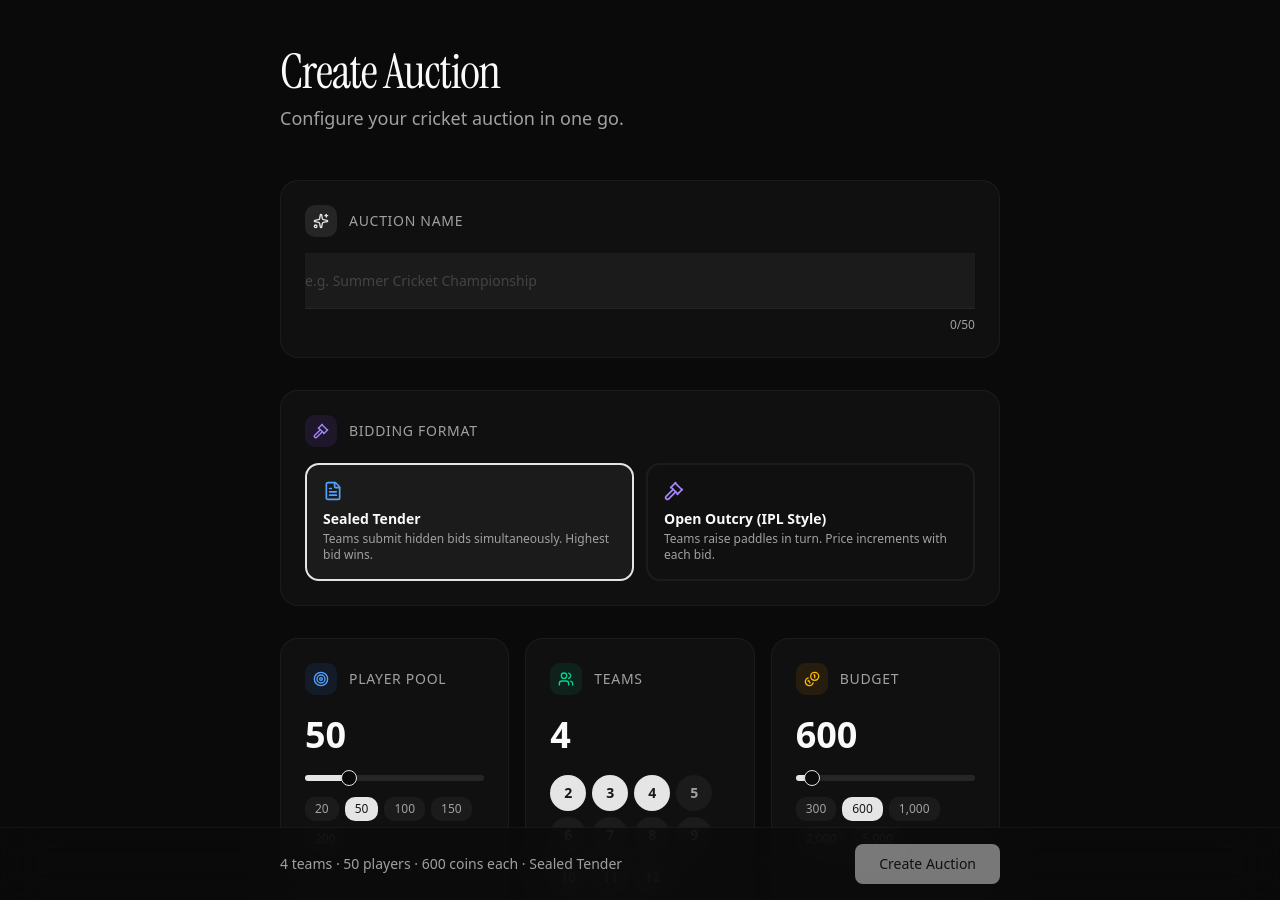
Test: CreateAuctionPage › Auction Creation › should show Creating... while submitting
This screenshot has width=1280, height=900.
Type "Test Auction" into the field with placeholder "e.g. Summer Cricket Championship" at (640, 281), box [305,253,975,309]
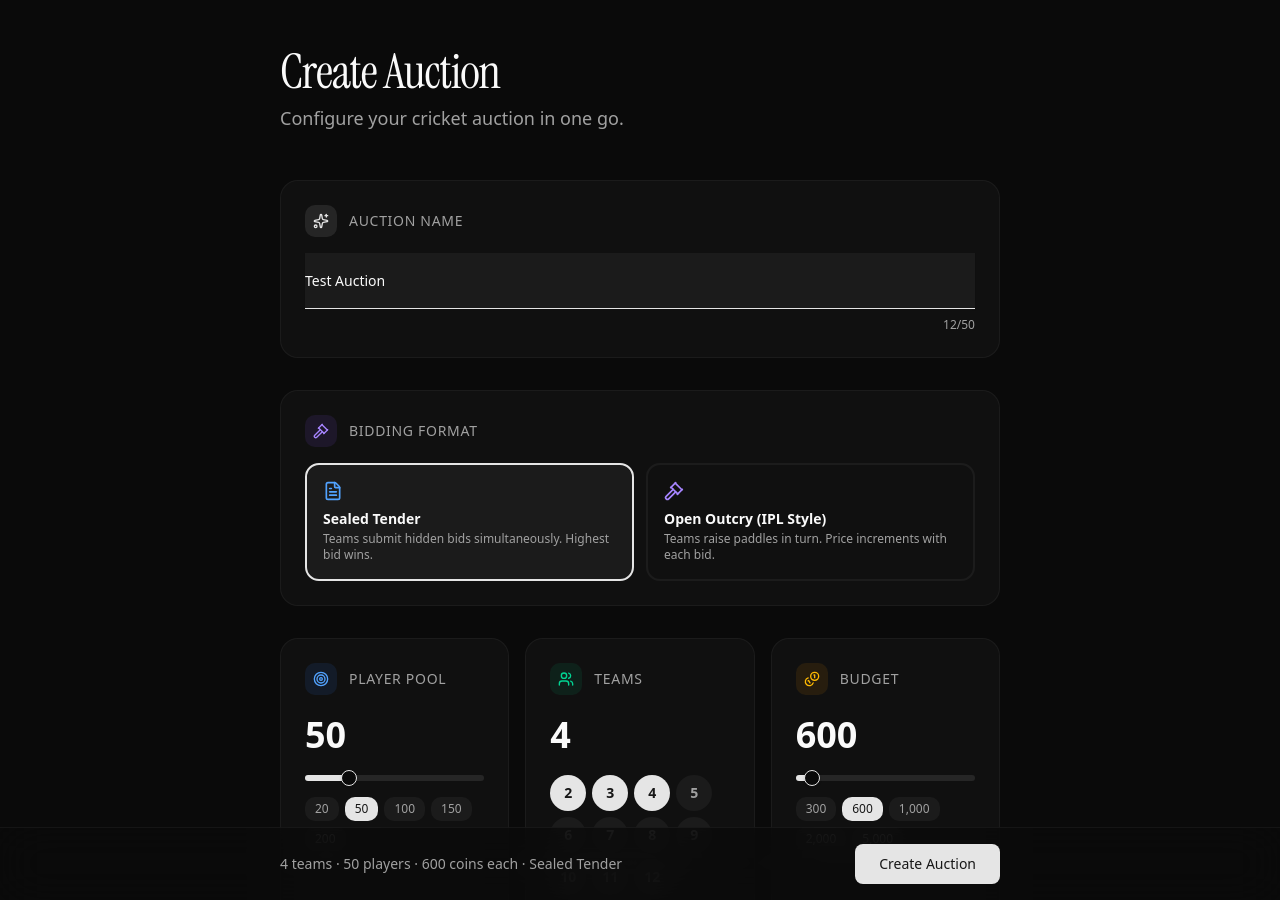
Click the button "Create Auction" at (928, 864), box [855,844,1000,884]
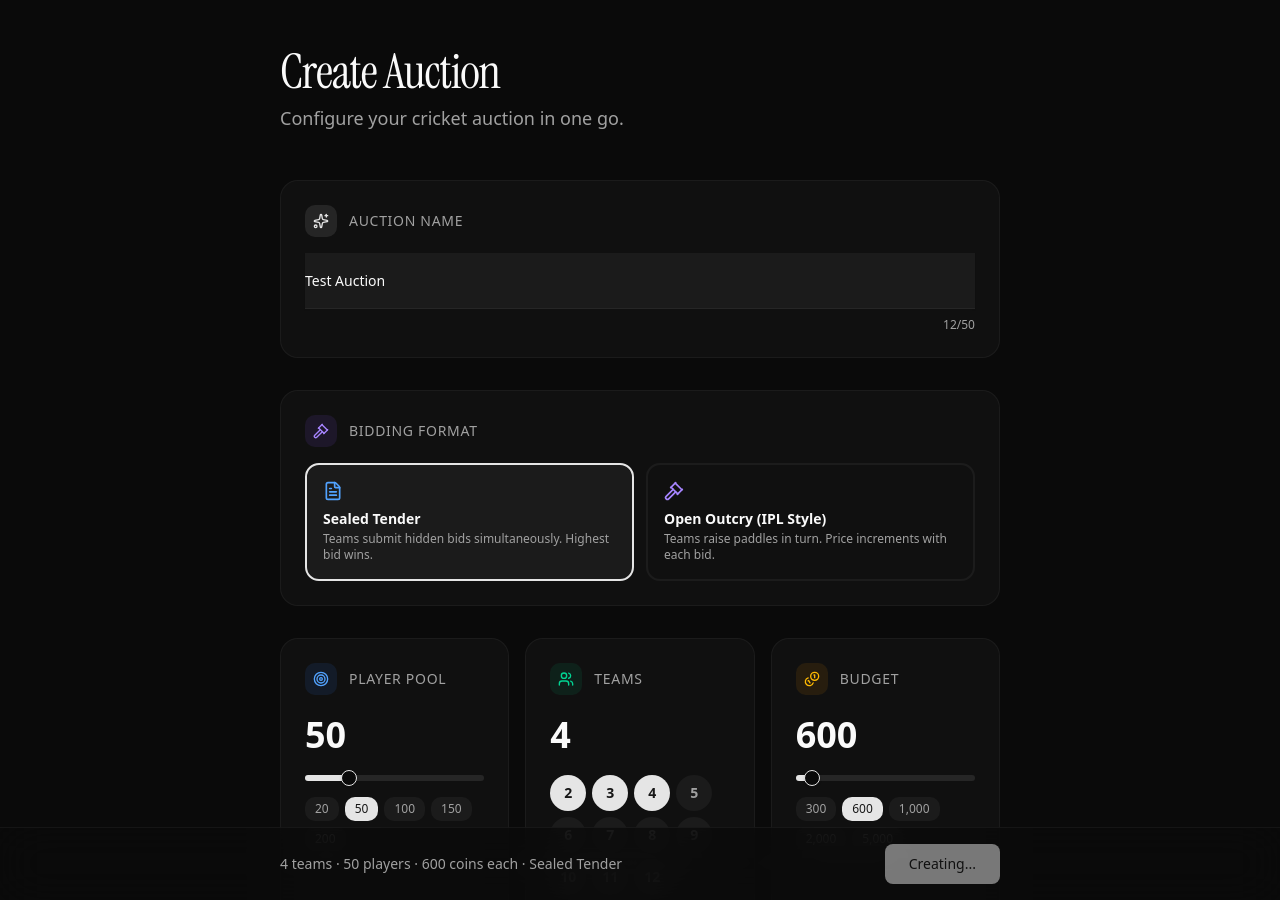
Now the button "Creating..." is disabled, box [885,844,1000,884]
